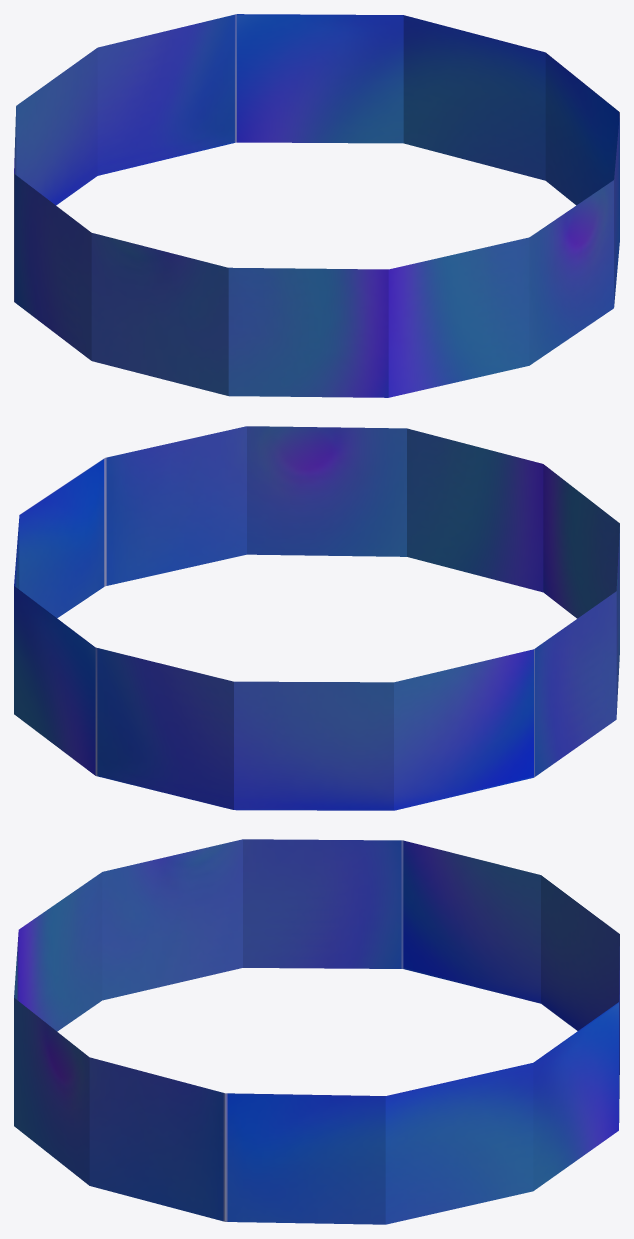
File: polar.obj
3 renders of one model, top to bottom at view 1: azimuth 30°, elevation 25°; view 2: azimuth 150°, elevation 25°; view 3: azimuth 270°, elevation 25°, orthographic.
Visible parts, largest first — view 1: polar; view 2: polar; view 3: polar.
Boxes of the visible parts, left/top/right/bottom form: polar: left=14, top=14, right=619, bottom=397; polar: left=14, top=426, right=619, bottom=810; polar: left=14, top=839, right=619, bottom=1224.
Bounding box in the file's own units: 2.75 × 0.643 × 2.75.
1 material, 1 textured.
